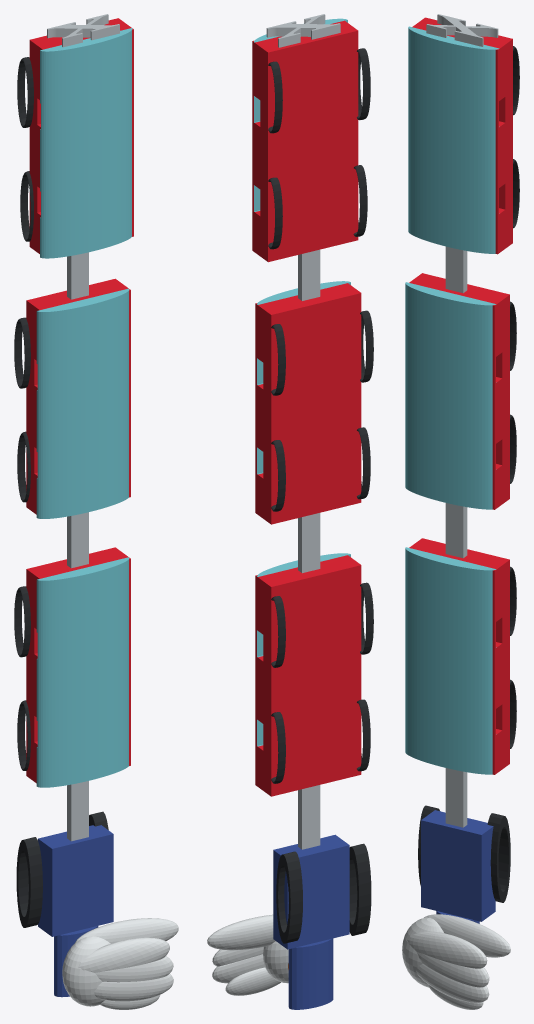
File: tinker.obj
3 views of the same model, side by side, from view 1: azimuth 30°, elevation 25°; view 2: azimuth 210°, elevation 25°; view 3: azimuth 330°, elevation 25° (orthographic). The views are drawn at different scales.
Parts seen in each view (by area): view 1: group_0_7720667, group_0_15277357, group_0_14541540, group_0_3888547, group_0_2829873, group_0_12568524; view 2: group_0_15277357, group_0_2829873, group_0_3888547, group_0_12568524, group_0_14541540, group_0_7720667; view 3: group_0_7720667, group_0_15277357, group_0_14541540, group_0_3888547, group_0_12568524, group_0_2829873.
Boxes of the visible parts, x1,y1,x2,y2 form: group_0_7720667: [36, 28, 132, 787]; group_0_15277357: [26, 18, 133, 783]; group_0_14541540: [62, 918, 178, 1009]; group_0_3888547: [38, 825, 113, 997]; group_0_2829873: [14, 57, 108, 927]; group_0_12568524: [47, 14, 119, 841]; group_0_15277357: [252, 20, 361, 796]; group_0_2829873: [268, 48, 373, 943]; group_0_3888547: [273, 834, 349, 1009]; group_0_12568524: [266, 14, 340, 849]; group_0_14541540: [207, 914, 288, 995]; group_0_7720667: [254, 18, 350, 746]; group_0_7720667: [405, 26, 499, 774]; group_0_15277357: [409, 17, 512, 774]; group_0_14541540: [402, 914, 510, 1009]; group_0_3888547: [421, 810, 495, 923]; group_0_12568524: [426, 14, 498, 827]; group_0_2829873: [418, 46, 519, 902].
Size of the model in its own units: 104 by 755 by 73.99.
